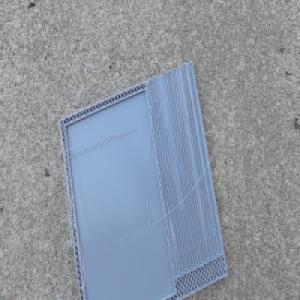PlasticPart: (57, 58, 229, 299)
